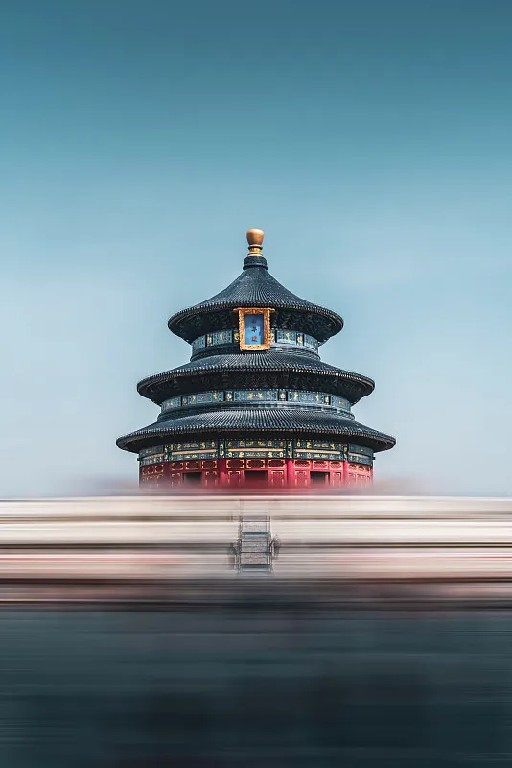Heaven: (114, 229, 397, 497)
